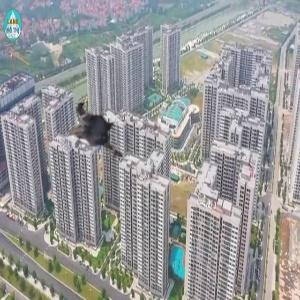drone: (53, 83, 143, 173)
